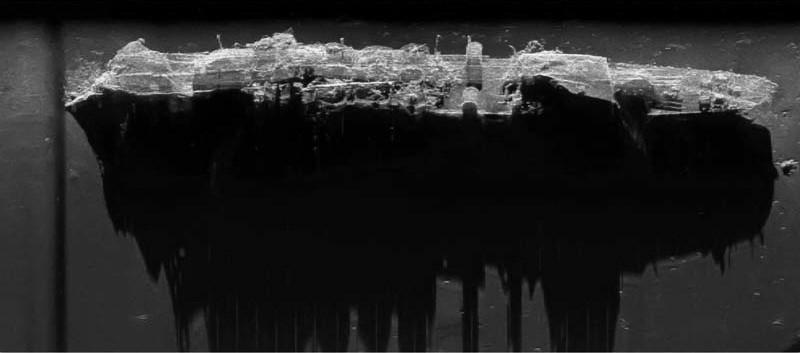ship: (64, 25, 779, 156)
